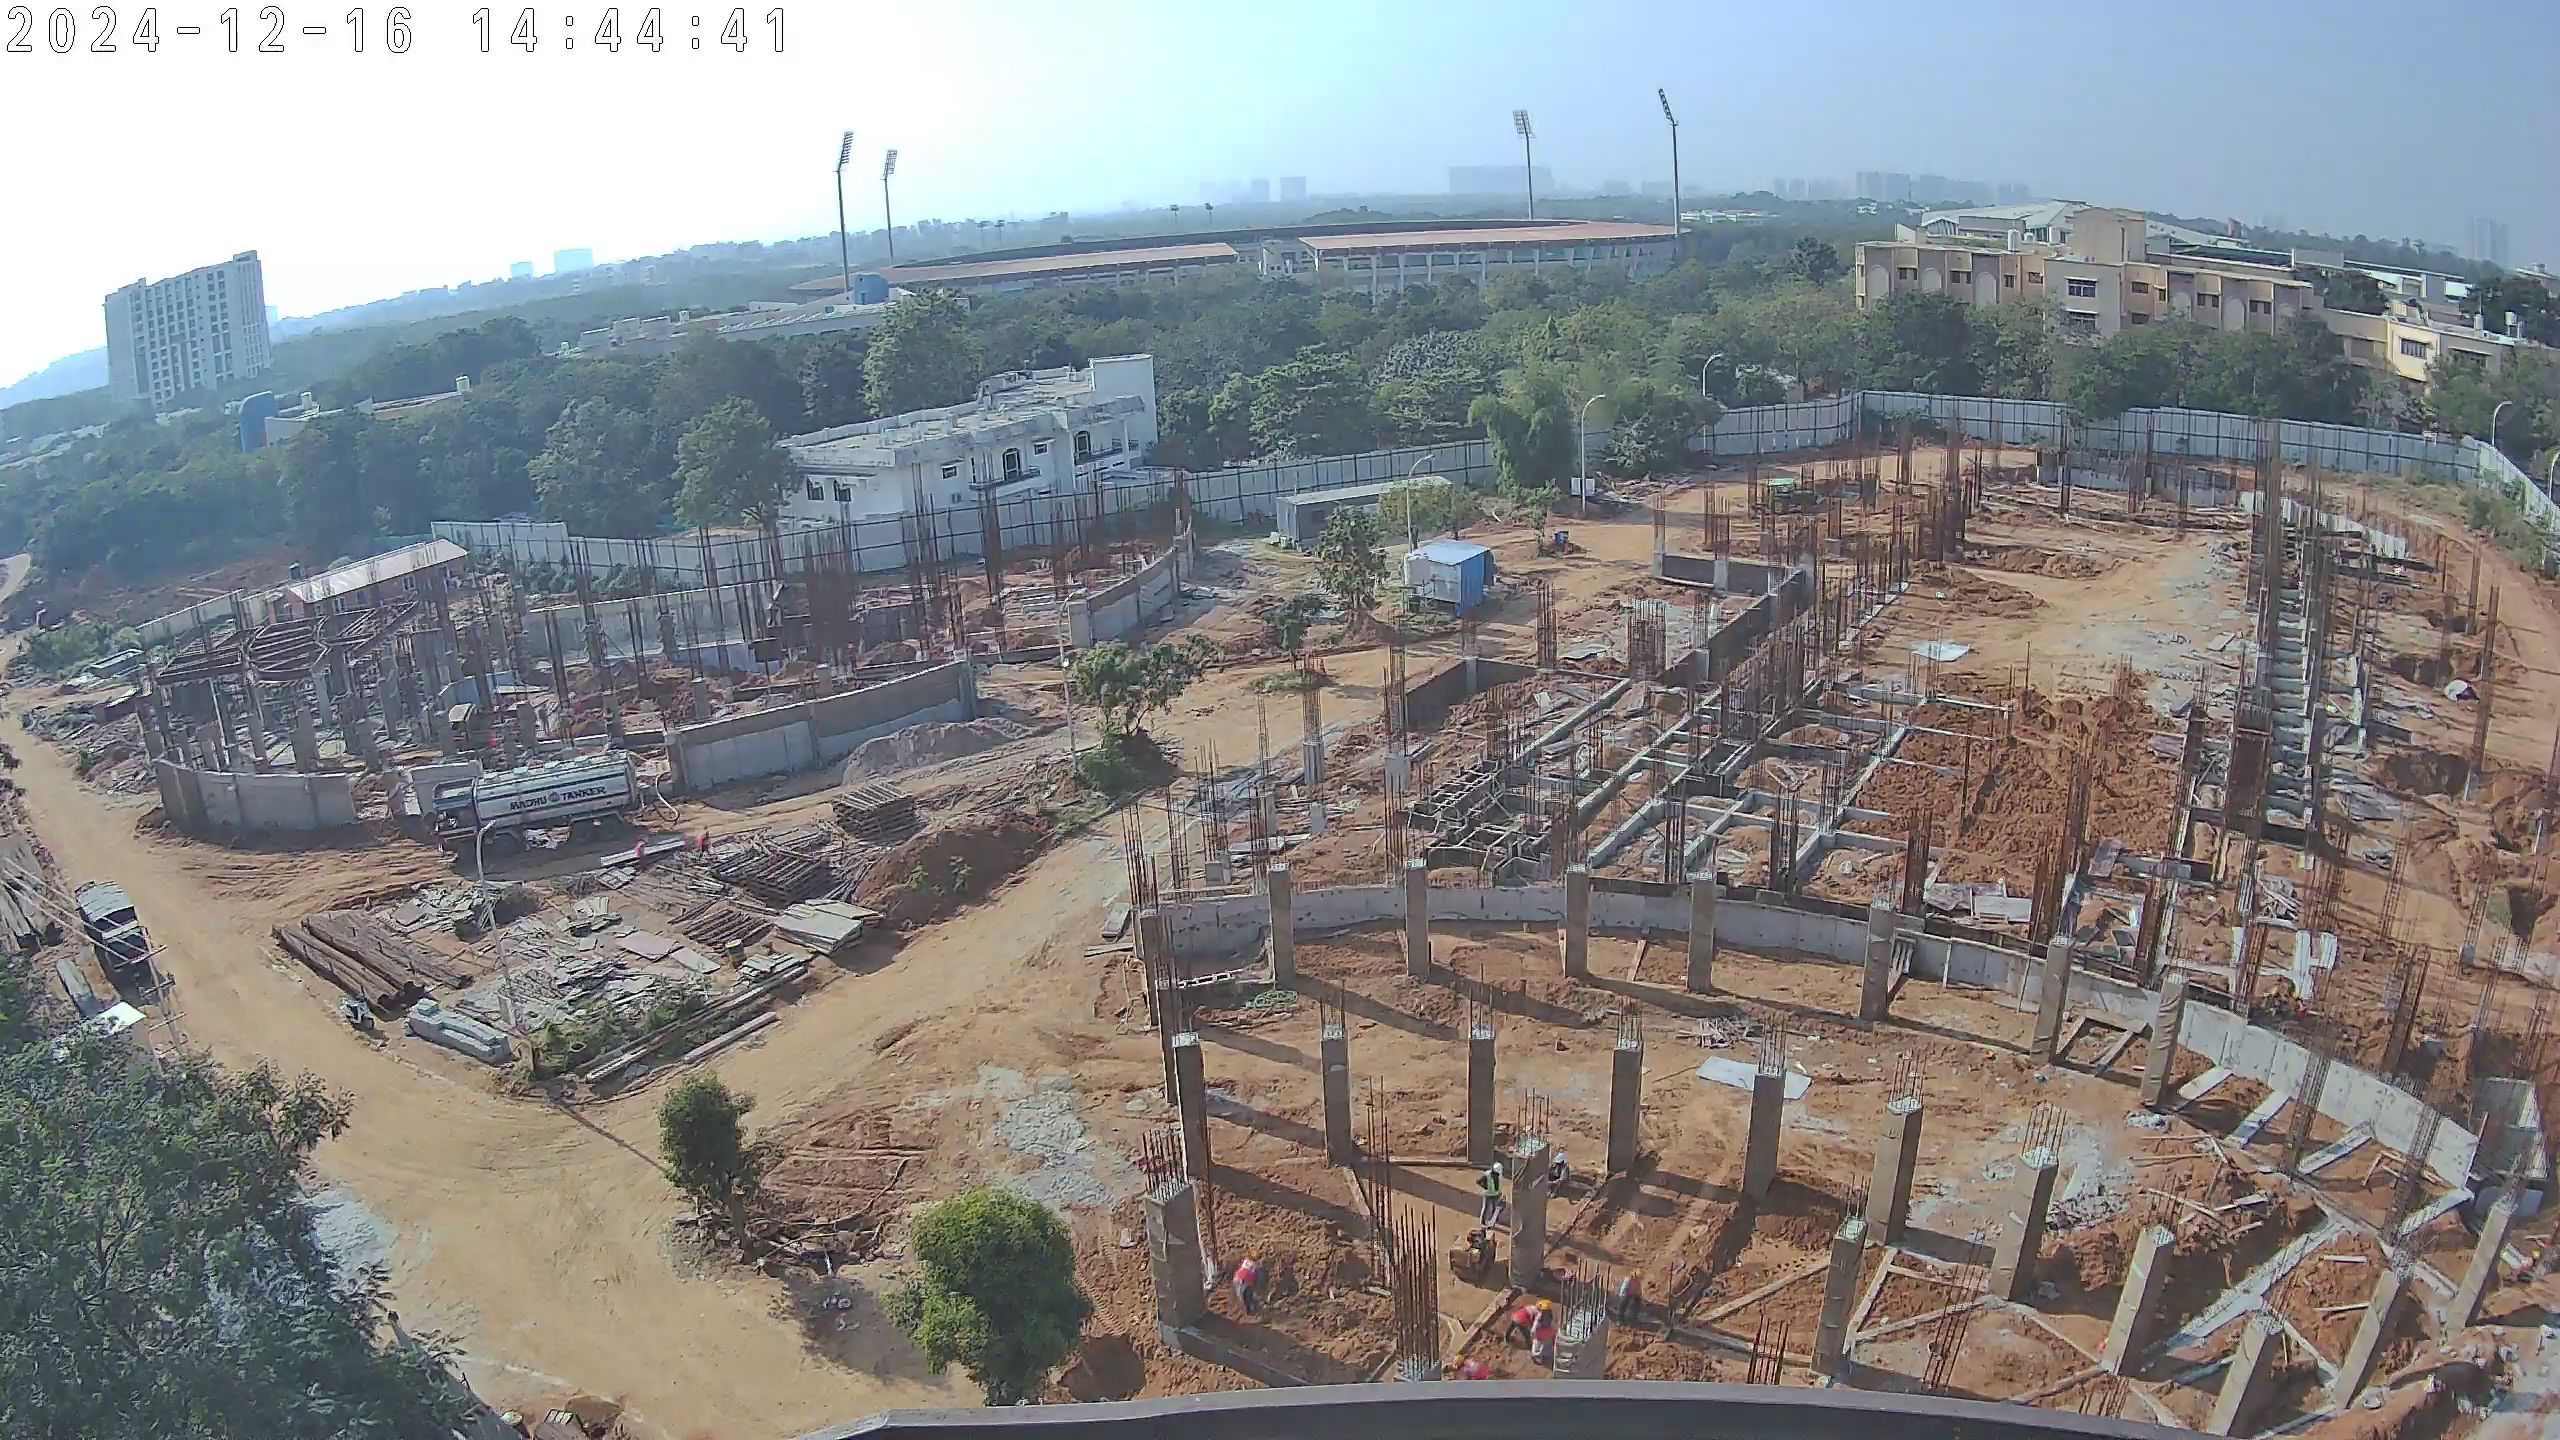truck: (431, 764, 647, 863), (72, 881, 158, 999), (1745, 477, 1822, 512)
worker: (1235, 1250, 1277, 1320), (1474, 1162, 1510, 1243), (1612, 1260, 1645, 1336), (1528, 1296, 1561, 1371), (1504, 1287, 1541, 1344), (1444, 1345, 1490, 1390), (1539, 1144, 1574, 1201), (2514, 1246, 2544, 1291), (2287, 983, 2313, 1029), (690, 824, 715, 868), (629, 833, 650, 875), (536, 702, 554, 739), (570, 697, 585, 718)
